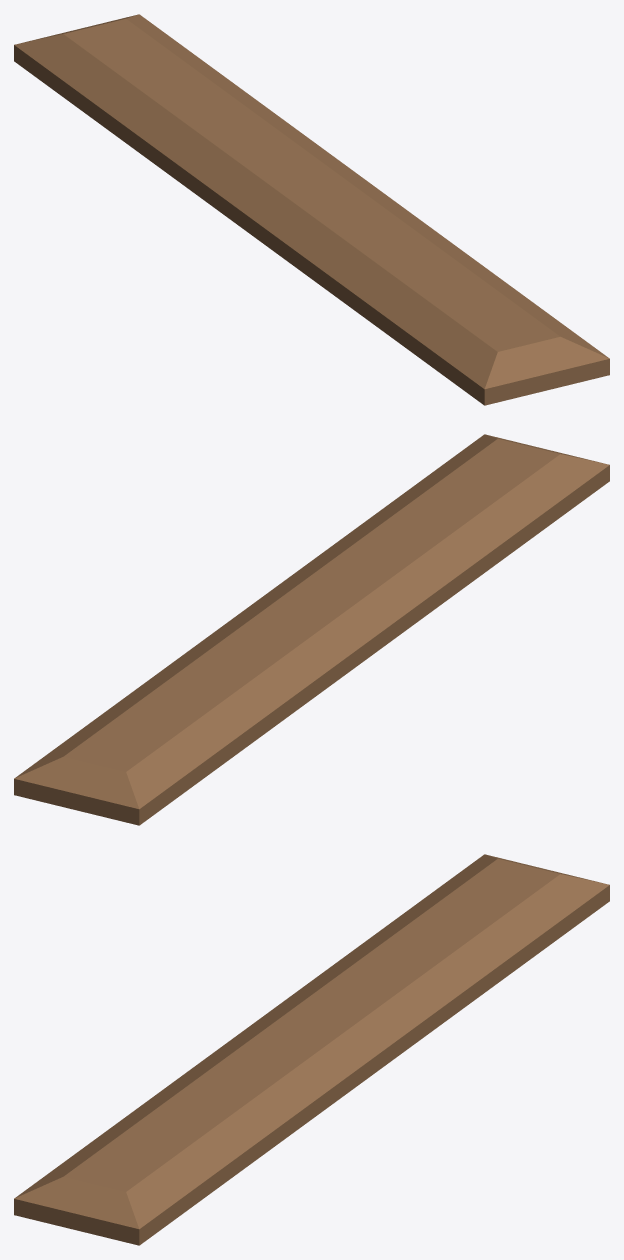
The model's file is Stairs_Indoor_Balcony_Baseboard.obj.
3 views of the same model, one above another, from view 1: azimuth 30°, elevation 25°; view 2: azimuth 150°, elevation 25°; view 3: azimuth 330°, elevation 25° (orthographic).
Visible parts, largest first — view 1: object1; view 2: object1; view 3: object1.
Boxes of the visible parts, x1=… form: object1: x1=14, y1=14, x2=609, y2=405; object1: x1=14, y1=434, x2=609, y2=825; object1: x1=14, y1=854, x2=609, y2=1245.
Size of the model in its own units: 0.2 by 0.05 by 1.3.
